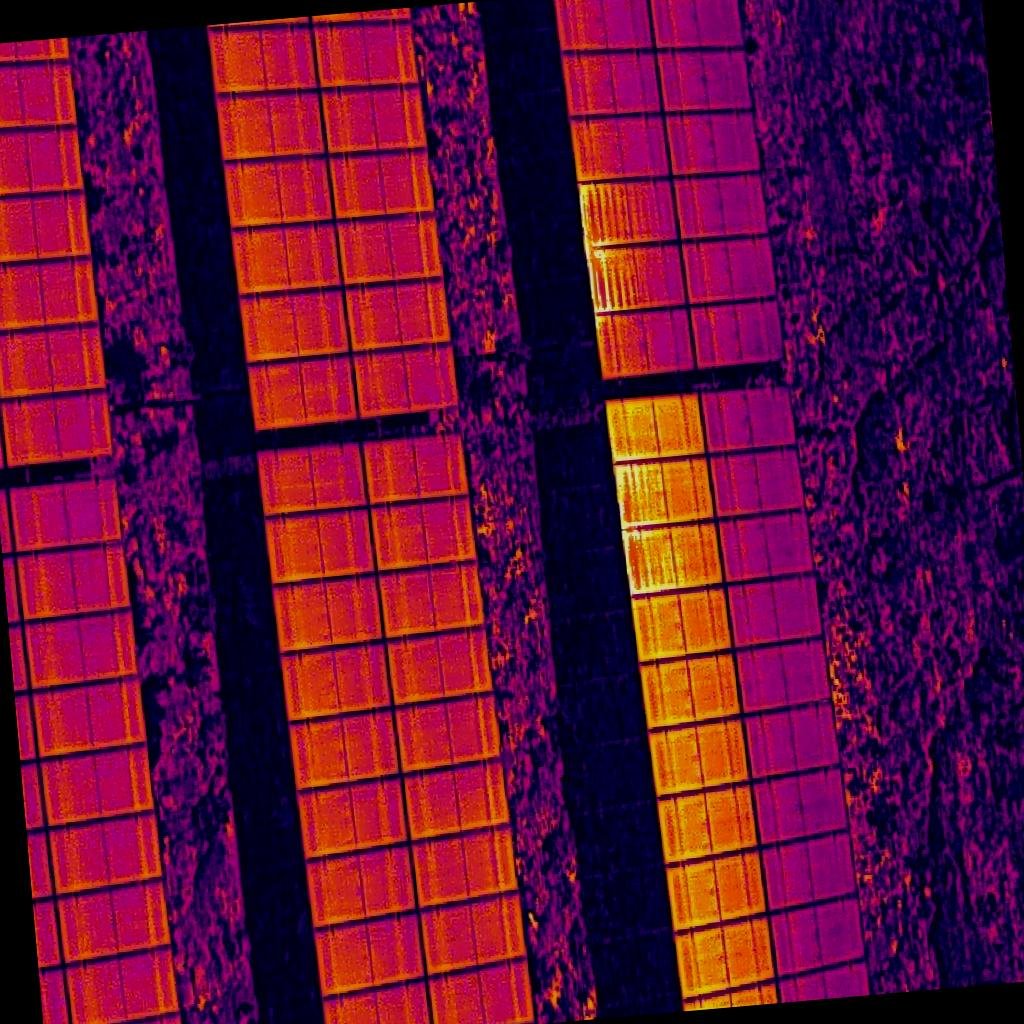panel: (306, 843, 417, 928), (11, 476, 122, 553), (414, 826, 515, 908), (258, 442, 368, 513), (363, 431, 472, 501), (354, 344, 456, 418), (735, 634, 833, 711), (763, 831, 856, 911), (596, 306, 695, 379), (588, 241, 687, 313), (607, 392, 707, 460), (576, 179, 676, 246)
